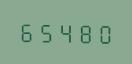eight: (75, 20, 93, 44)
five: (37, 19, 55, 43)
four: (56, 19, 74, 44)
six: (18, 19, 36, 43)
zero: (94, 20, 112, 44)
